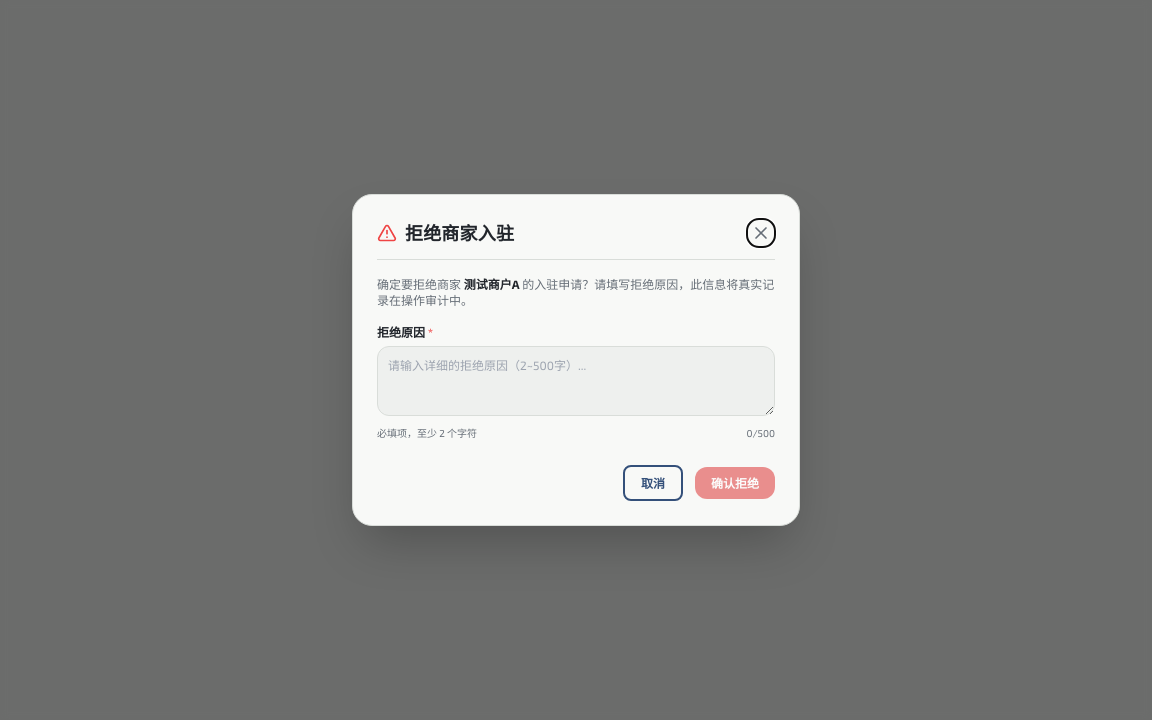
Test: RejectMerchantDialog Component › validates mandatory reason and disables submit when reason < 2 characters
Expected: the dialog with test id "reject-merchant-dialog" is shown, [352, 194, 800, 526]
Expected: the text "测试商户A" is shown, [464, 277, 520, 291]
In the text box with test id "reject-merchant-reason-input": (576, 381) [377, 346, 775, 416], type "a"
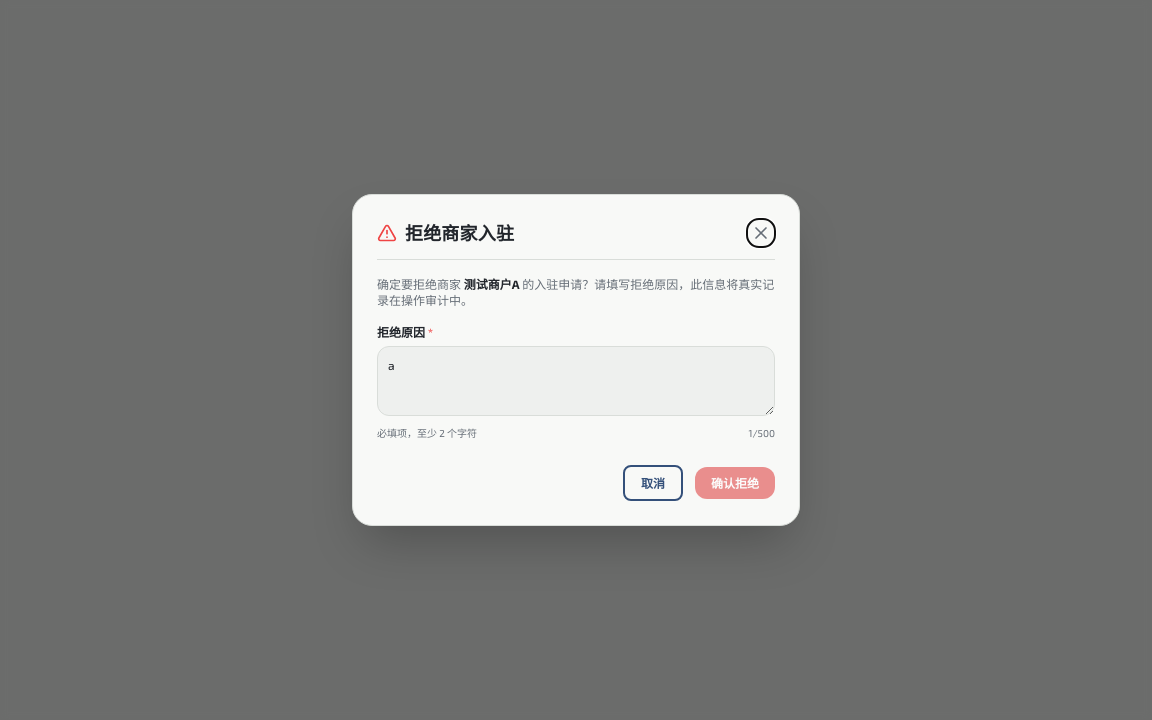
Expected: the button with test id "confirm-reject-merchant-btn" is disabled, [695, 467, 775, 499]
Replace the text in the text box with test id "reject-merchant-reason-input" with "  资质不全  ": (576, 381) [377, 346, 775, 416]
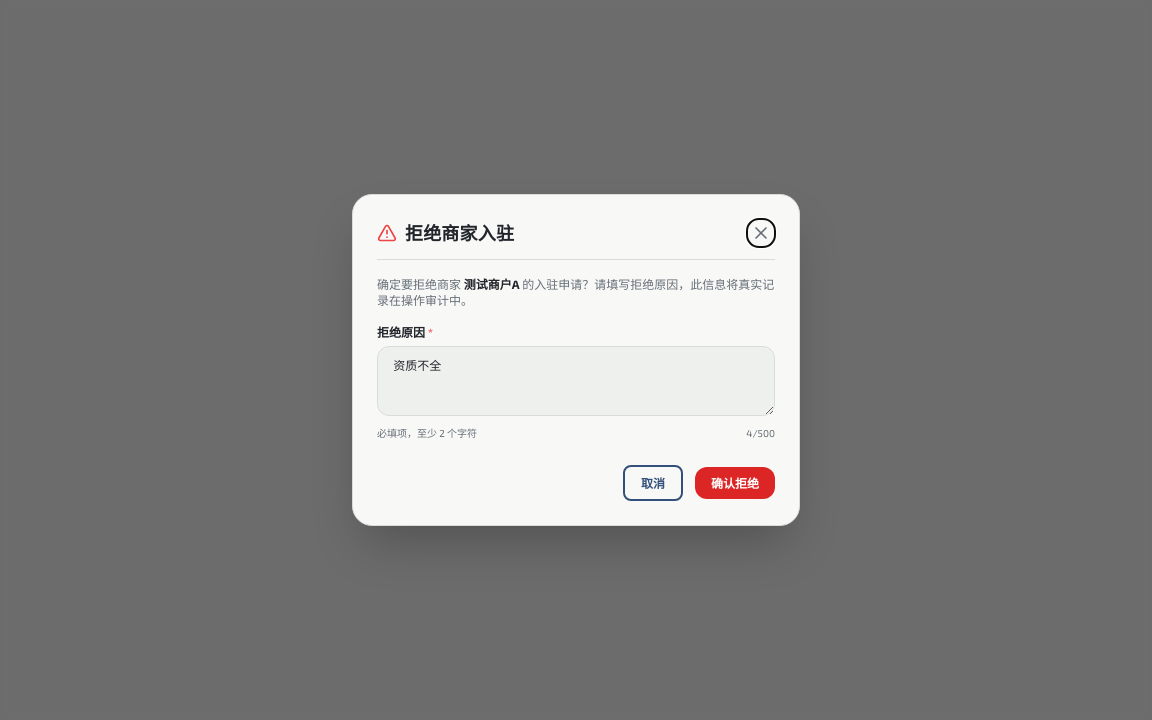
Expected: the button with test id "confirm-reject-merchant-btn" is enabled, [695, 467, 775, 499]
